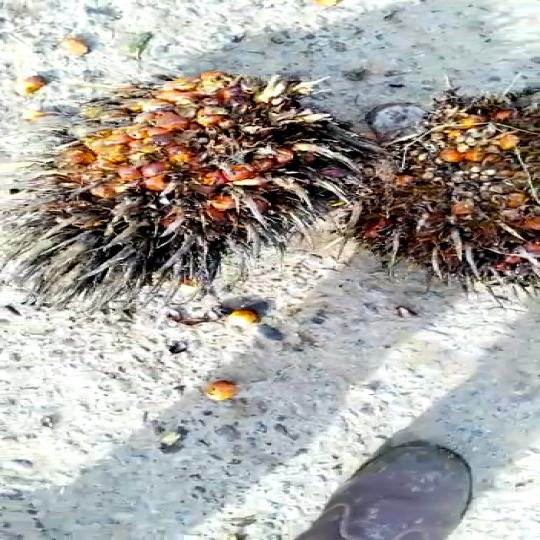terlalu masak: (9, 76, 373, 276), (359, 90, 540, 283)
